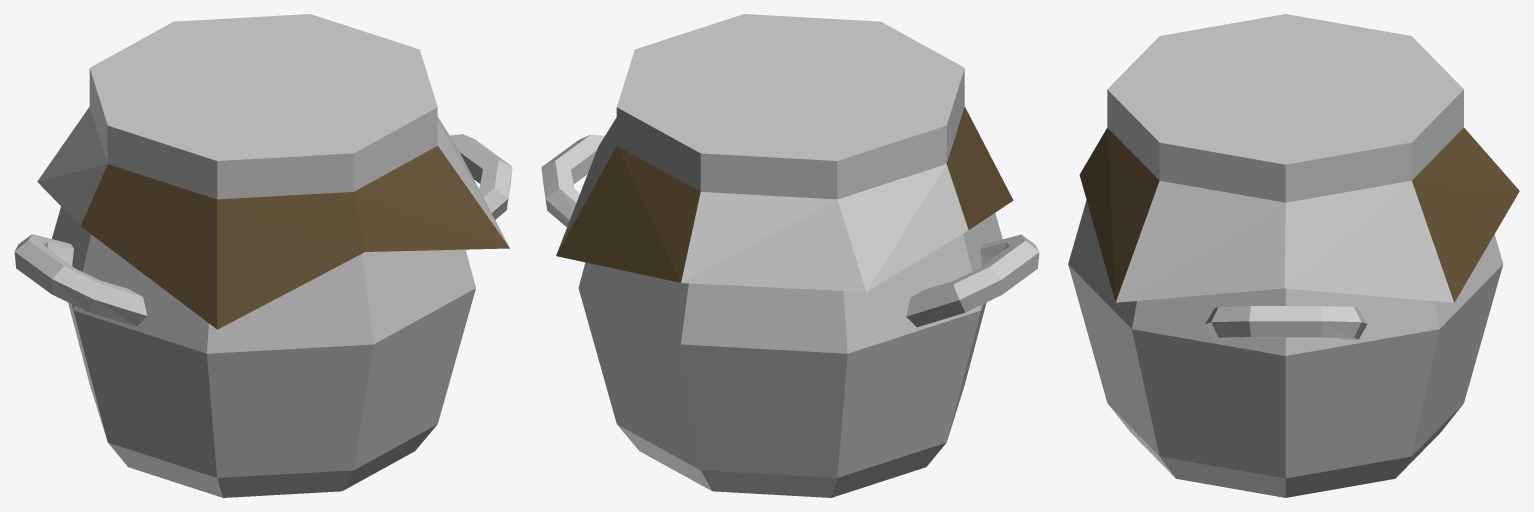
File: ITMI_MOLERATLUBRIC.OBJ
3 renders of one model, left to right at view 1: azimuth 30°, elevation 25°; view 2: azimuth 150°, elevation 25°; view 3: azimuth 270°, elevation 25°, orthographic.
Visible parts, largest first — view 1: ITMI_MOLERATLUBRIC; view 2: ITMI_MOLERATLUBRIC; view 3: ITMI_MOLERATLUBRIC.
Boxes of the visible parts, left/top/right/bottom form: ITMI_MOLERATLUBRIC: left=14, top=14, right=512, bottom=497; ITMI_MOLERATLUBRIC: left=541, top=14, right=1039, bottom=497; ITMI_MOLERATLUBRIC: left=1068, top=14, right=1519, bottom=497.
Bounding box in the file's own units: 0.3306 × 0.2377 × 0.2838.
